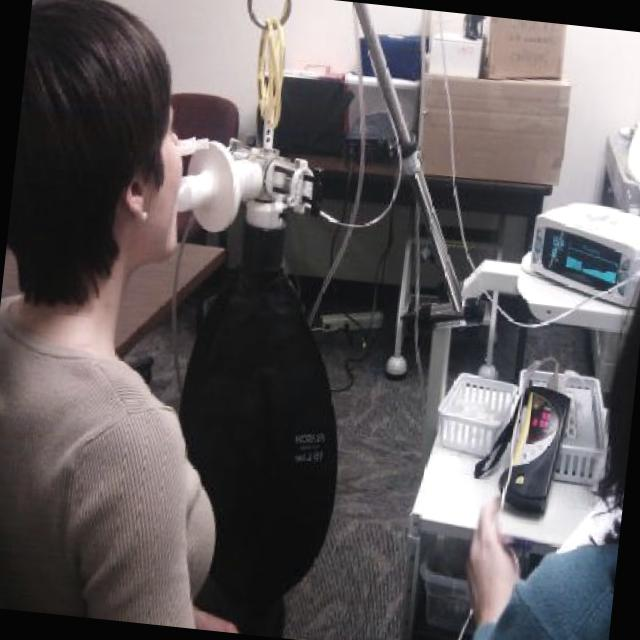Person: (0, 0, 260, 618), (454, 244, 640, 640)
